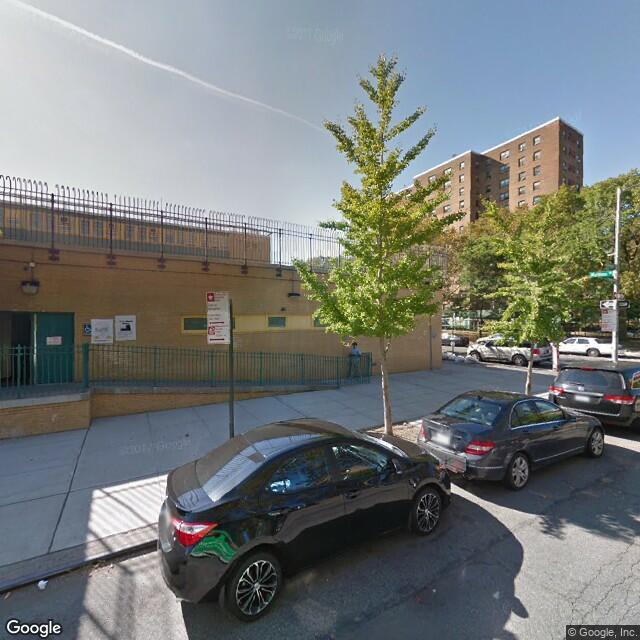litter: (33, 574, 62, 586), (1, 588, 19, 596)
